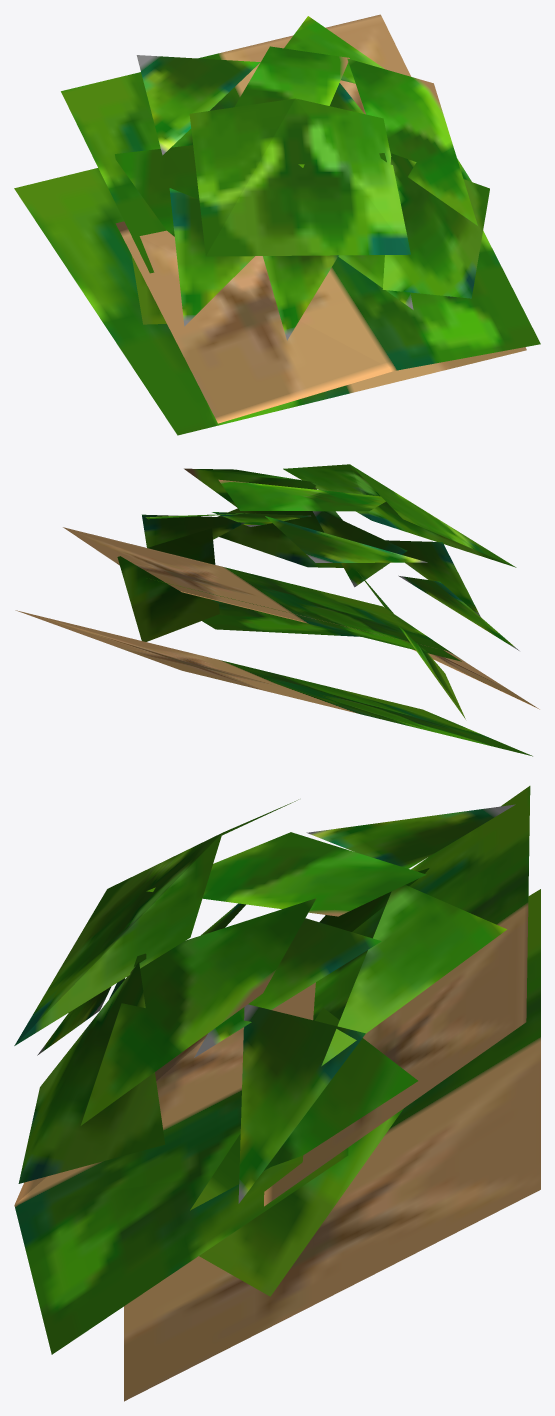
Rendered from fg_bushC_2_bl.dae.
3 renders of one model, top to bottom at view 1: azimuth 30°, elevation 25°; view 2: azimuth 150°, elevation 25°; view 3: azimuth 270°, elevation 25°, orthographic. The views are drawn at different scales.
Parts seen in each view (by area): view 1: fg_bushC_2_bl; view 2: fg_bushC_2_bl; view 3: fg_bushC_2_bl.
Boxes of the visible parts, x1,y1,x2,y2 form: fg_bushC_2_bl: (14, 14, 540, 435); fg_bushC_2_bl: (15, 464, 539, 756); fg_bushC_2_bl: (14, 786, 540, 1401).
Bounding box in the file's own units: 47.83 × 31.21 × 35.4.
1 material, 1 textured.
